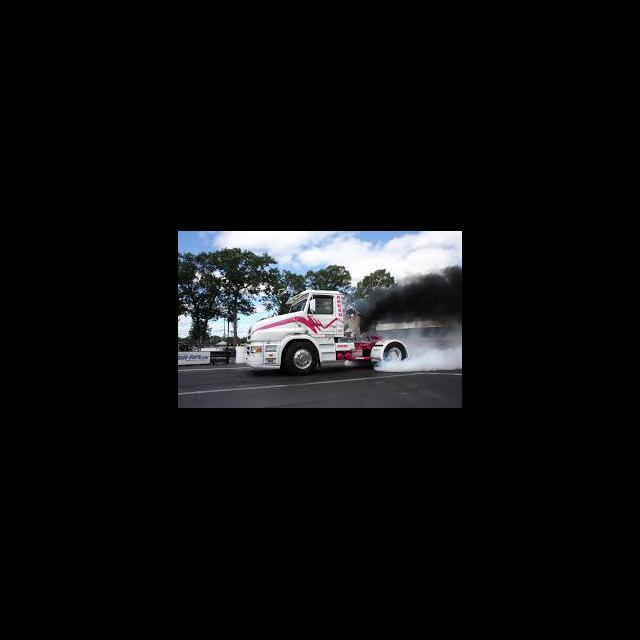Smoke: (358, 268, 462, 331), (377, 344, 462, 374)
